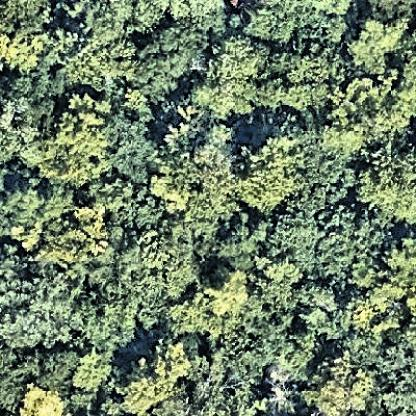tree-top: (274, 190, 357, 286), (155, 128, 233, 226), (1, 277, 95, 350), (1, 172, 78, 253), (120, 339, 199, 416), (354, 137, 416, 228), (267, 49, 345, 119), (196, 34, 258, 121), (227, 140, 304, 210), (338, 76, 413, 144), (298, 356, 381, 416), (220, 320, 304, 378), (125, 28, 198, 94), (1, 76, 60, 153), (56, 90, 118, 158), (90, 232, 151, 293), (347, 18, 409, 77), (107, 117, 155, 188), (351, 327, 411, 383), (91, 183, 169, 225), (200, 264, 253, 322), (205, 224, 270, 271), (64, 32, 122, 84), (204, 263, 254, 318), (68, 343, 121, 394), (96, 293, 144, 349), (247, 1, 303, 47), (156, 1, 229, 35), (15, 375, 70, 416), (1, 34, 49, 76), (1, 1, 53, 39), (384, 244, 416, 289)
